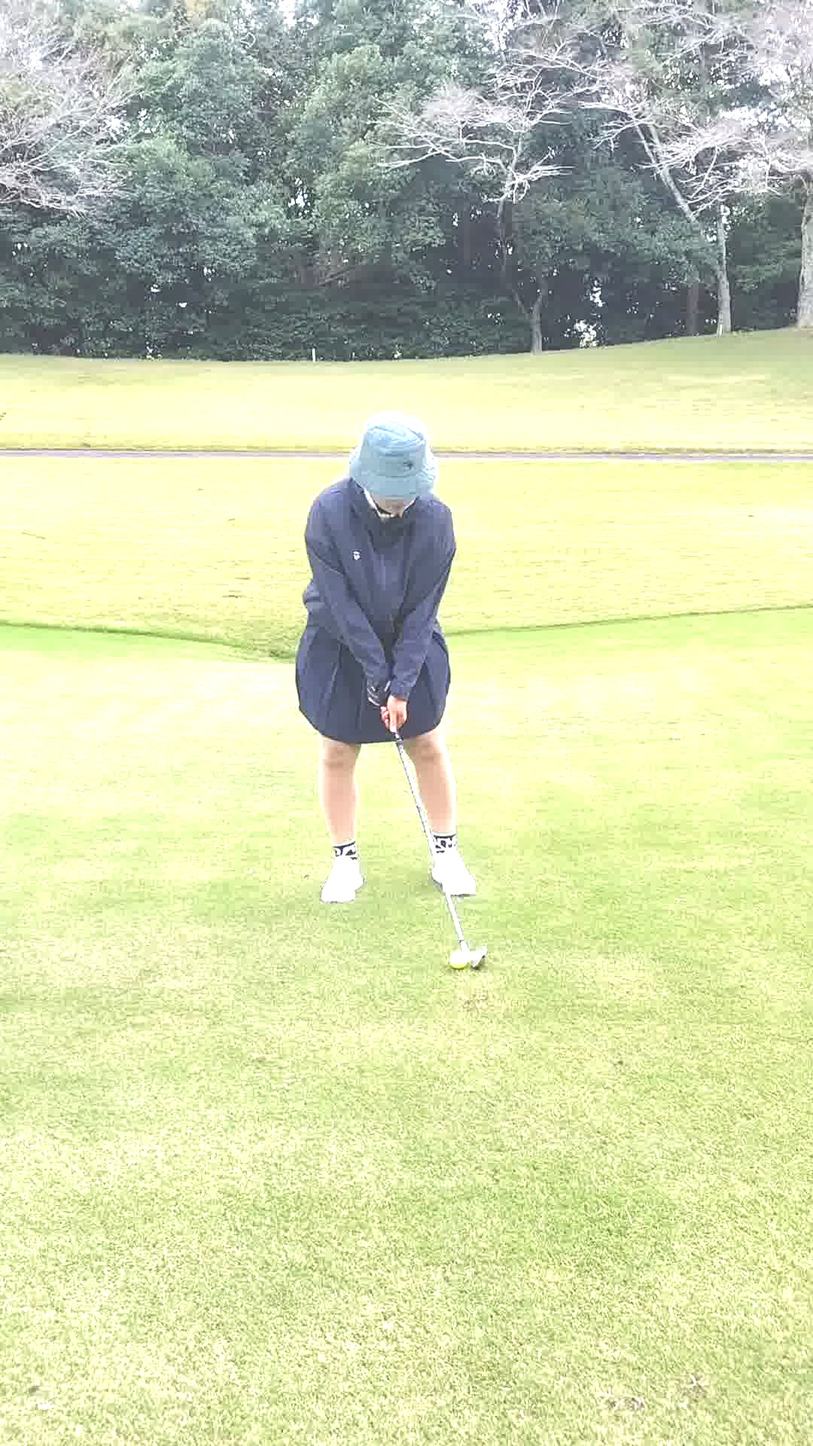clubhead: (423, 921, 590, 1036)
